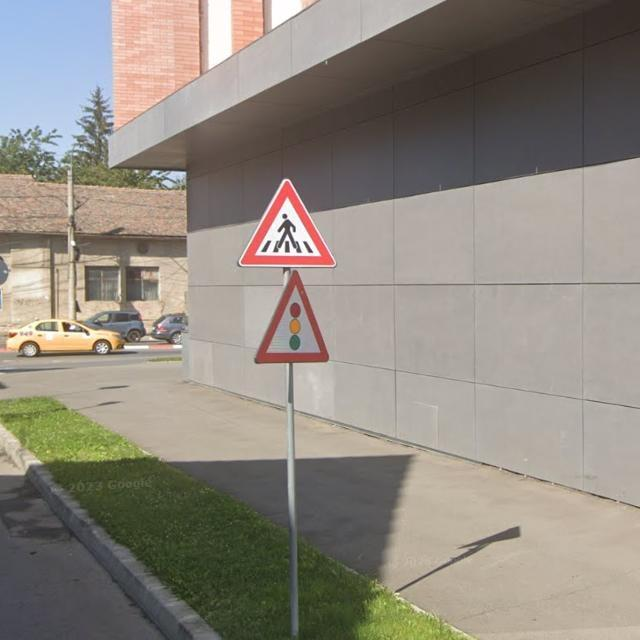warn_crosswalk: (235, 185, 340, 270)
